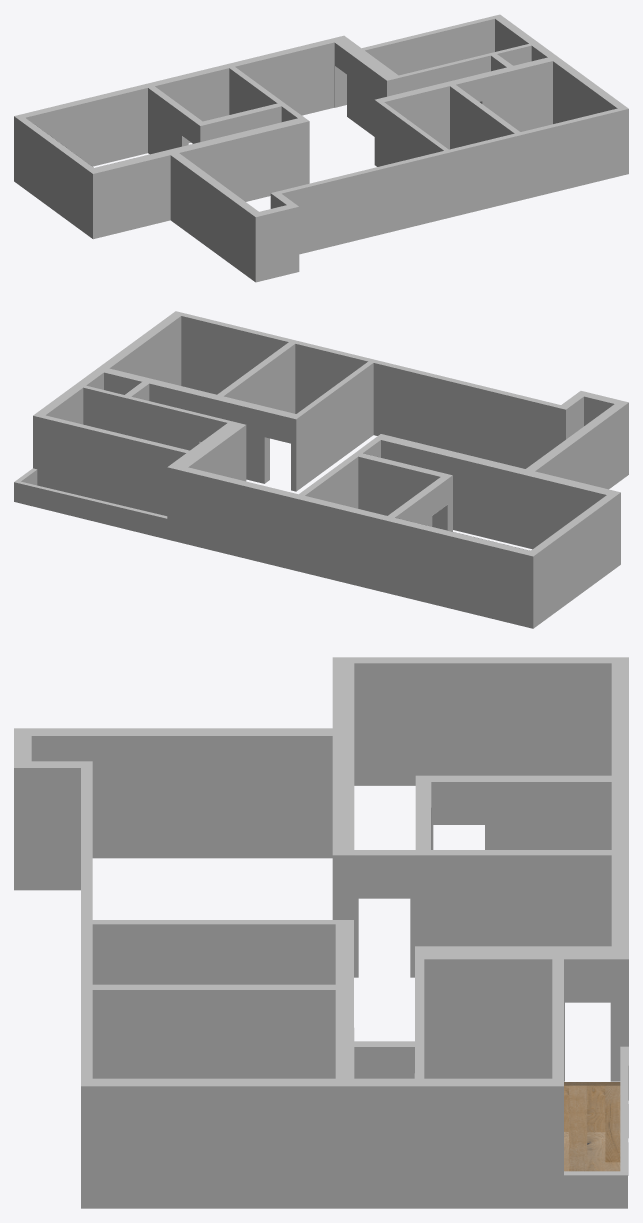
The model's file is House_Mainwall_2_NewNewNew.fbx.
The picture shows the model from 3 angles, top to bottom: view 1: azimuth 30°, elevation 25°; view 2: azimuth 150°, elevation 25°; view 3: azimuth 270°, elevation 25°; orthographic projection. The views are drawn at different scales.
Parts seen in each view (by area): view 1: 主牆.002, 主牆.003, 客臥牆.001, 書房牆.001, 外廁所牆.001, 廁所牆.001, 密室牆.001; view 2: 主牆.002, 陽台牆.001, 主牆.003, 客臥牆.001, 書房牆.001, 外廁所牆.001, 廁所牆.001, 密室牆.001; view 3: 主牆.002, 主牆.003, 客臥牆.001, 書房牆.001, 外廁所牆.001, 廁所牆.001, 陽台牆.001, 陽台地.001, 密室牆.001.
Boxes of the visible parts, box(x1,y1,x2,y2) form: 主牆.002: box(14, 14, 628, 282); 主牆.003: box(26, 88, 297, 167); 客臥牆.001: box(456, 61, 617, 131); 書房牆.001: box(365, 19, 528, 75); 外廁所牆.001: box(384, 86, 514, 149); 廁所牆.001: box(155, 68, 277, 142); 密室牆.001: box(497, 45, 547, 65); 主牆.002: box(33, 311, 628, 628); 陽台牆.001: box(14, 416, 185, 539); 主牆.003: box(363, 440, 606, 550); 客臥牆.001: box(109, 316, 288, 394); 書房牆.001: box(46, 387, 226, 450); 外廁所牆.001: box(224, 344, 367, 413); 廁所牆.001: box(305, 456, 440, 528); 密室牆.001: box(86, 372, 141, 394); 主牆.002: box(14, 657, 628, 1208); 主牆.003: box(354, 663, 611, 785); 客臥牆.001: box(92, 990, 335, 1078); 書房牆.001: box(424, 959, 552, 1078); 外廁所牆.001: box(92, 924, 335, 984); 廁所牆.001: box(431, 782, 611, 849); 陽台牆.001: box(564, 959, 628, 1208); 陽台地.001: box(564, 1082, 620, 1171); 密室牆.001: box(354, 1047, 414, 1078).
Size of the model in its own units: 6949 by 955 by 4212.
